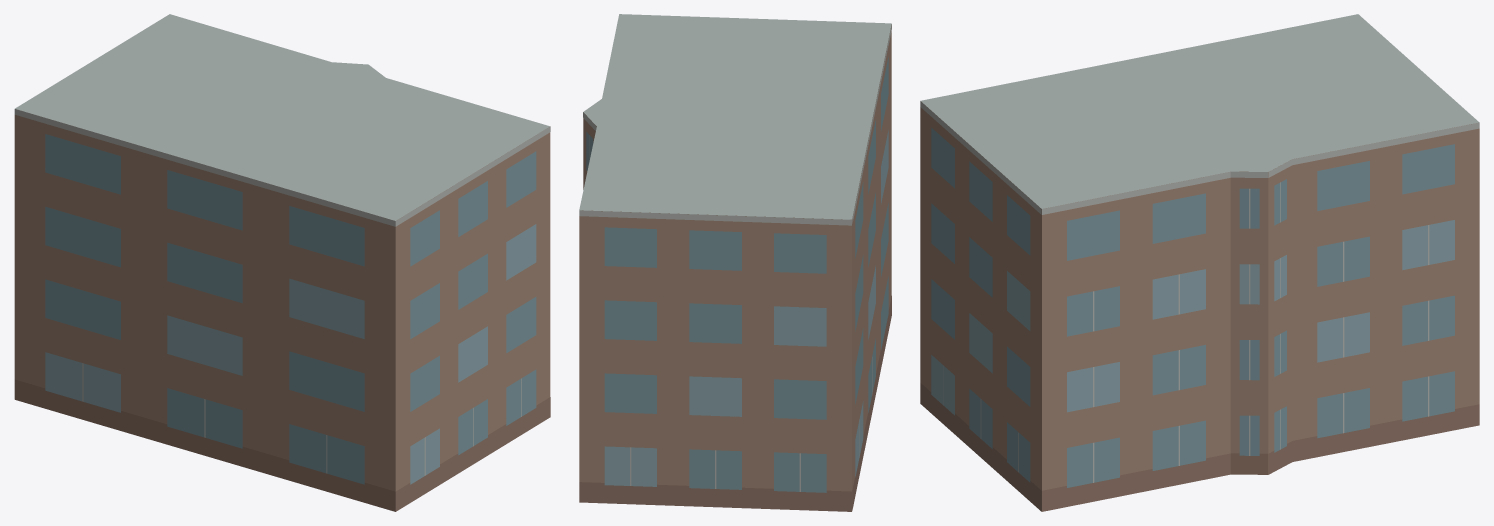
File: survey-upis-32831308.glb
3 renders of one model, left to right at view 1: azimuth 30°, elevation 25°; view 2: azimuth 150°, elevation 25°; view 3: azimuth 270°, elevation 25°, orthographic. The views are drawn at different scales.
Parts seen in each view (by area): view 1: survey-upis-32831308.tmp; view 2: survey-upis-32831308.tmp; view 3: survey-upis-32831308.tmp.
Part boxes in pixels (x1,y1,x2,y2): survey-upis-32831308.tmp: (14,14,550,511); survey-upis-32831308.tmp: (579,14,891,511); survey-upis-32831308.tmp: (920,14,1479,511).
Bounding box in the file's own units: 16.86 × 12.2 × 20.43.
